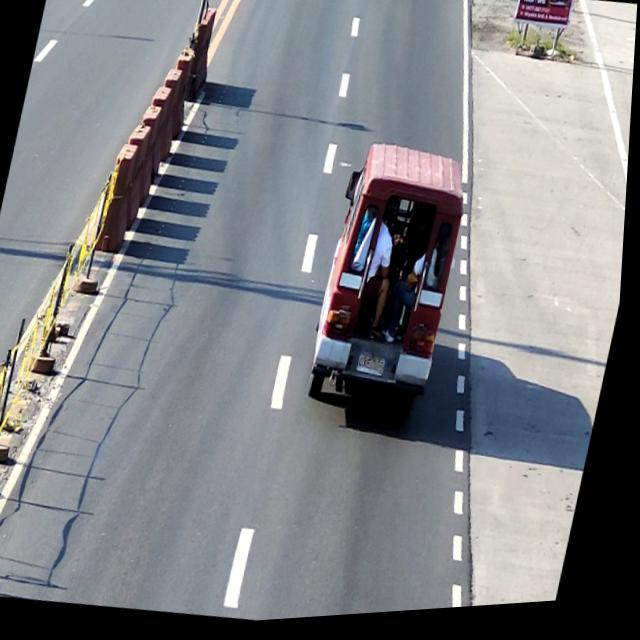Jeep: (305, 141, 481, 430)
License-Plate: (362, 359, 392, 382)
